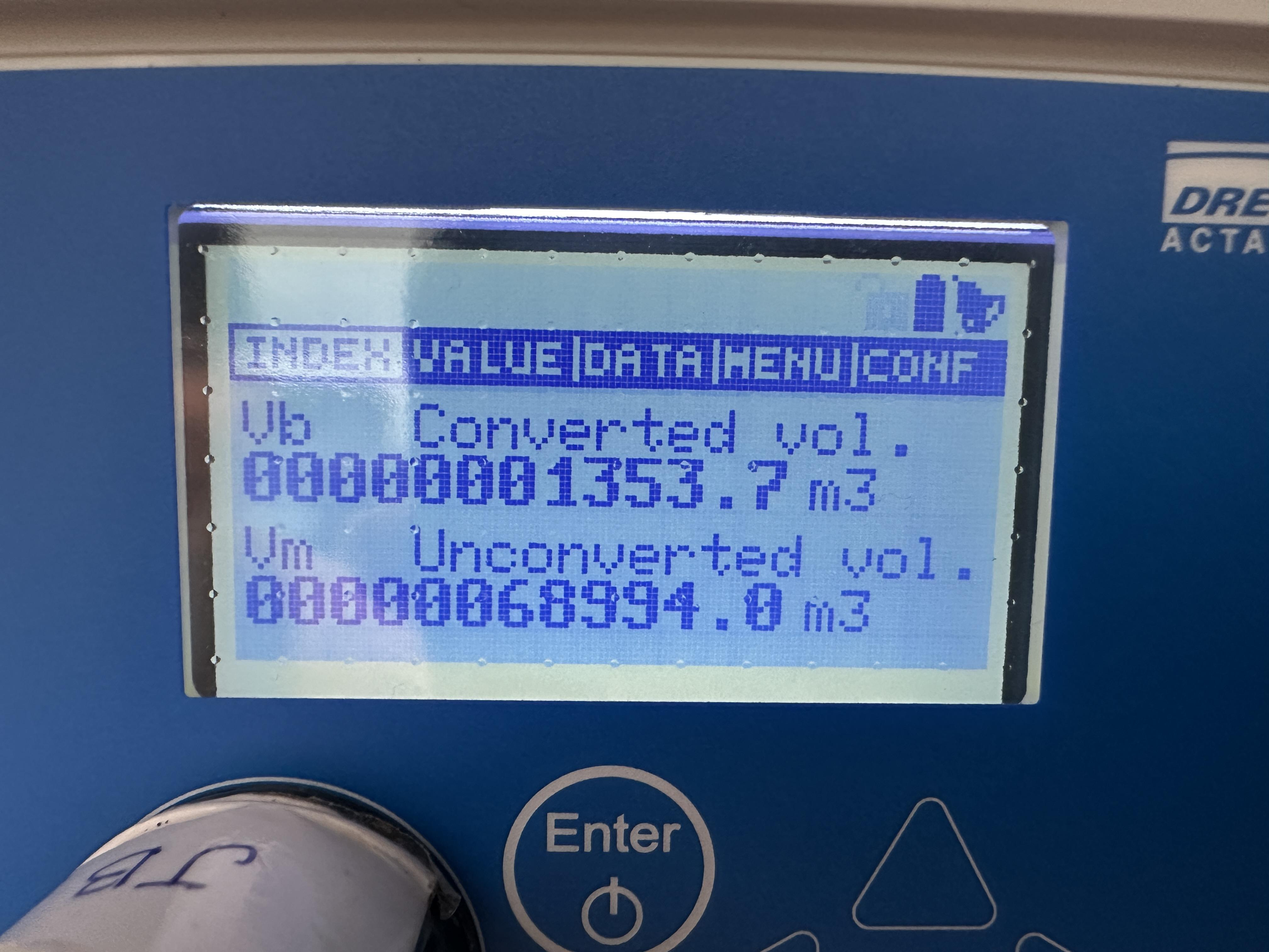digital_screen: (199, 246, 1029, 704)
